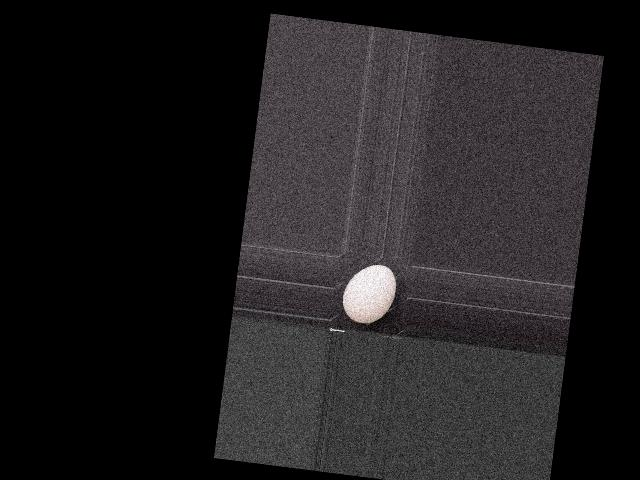egg: (340, 261, 399, 327)
